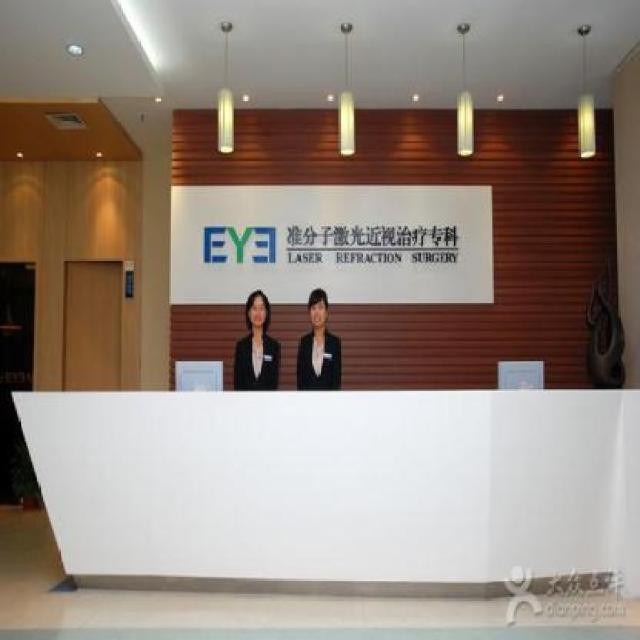frontdesk: (3, 369, 640, 598)
